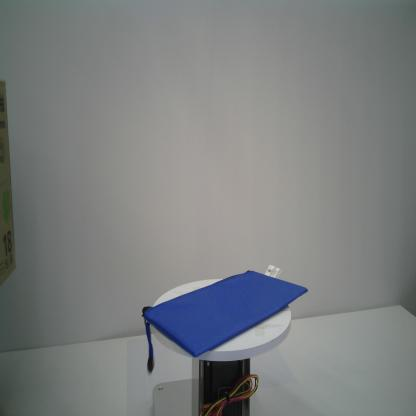Stationery: (141, 263, 309, 377)
